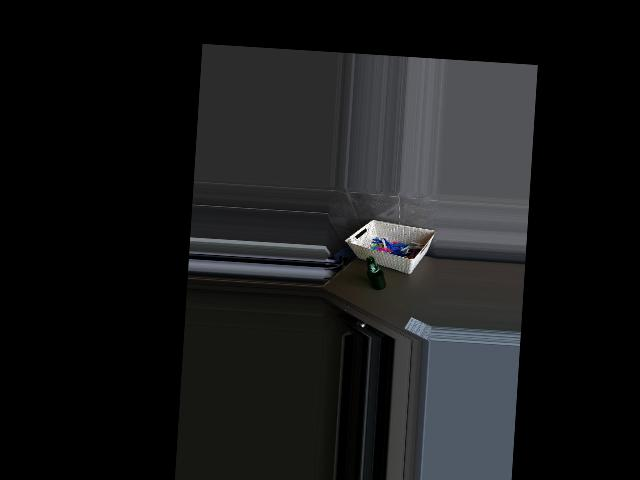beer: (364, 256, 387, 290)
